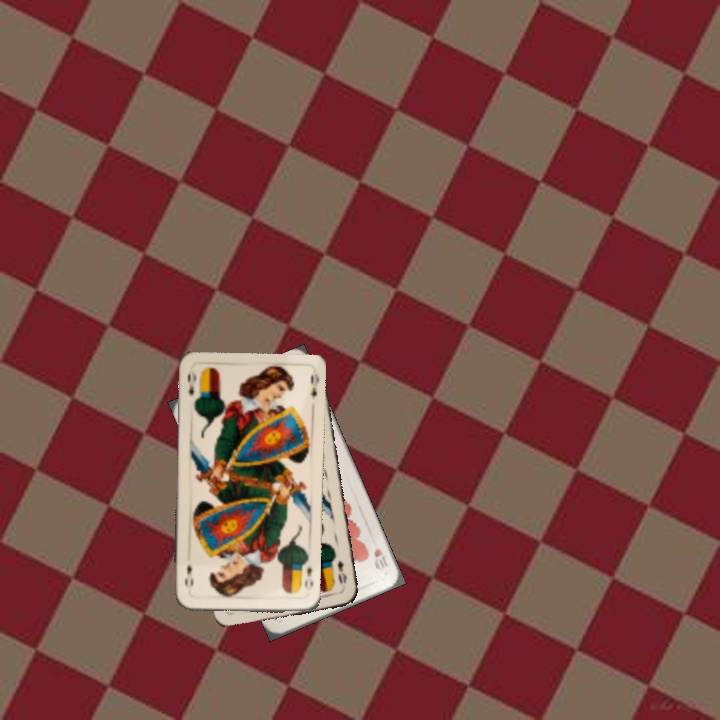EO: (333, 557, 349, 587), (184, 366, 199, 398), (301, 562, 316, 590)
H10: (370, 544, 392, 574)
